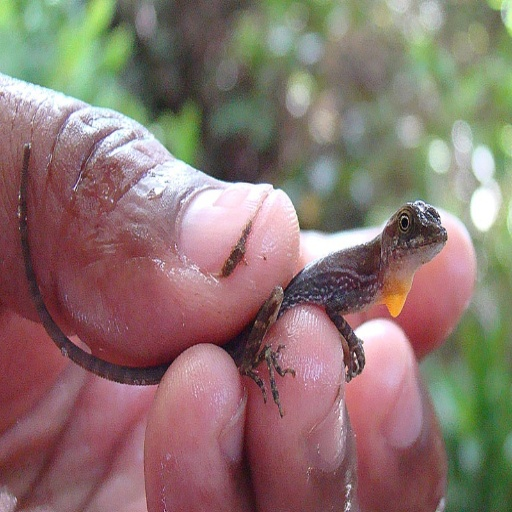hand: (0, 70, 474, 511)
